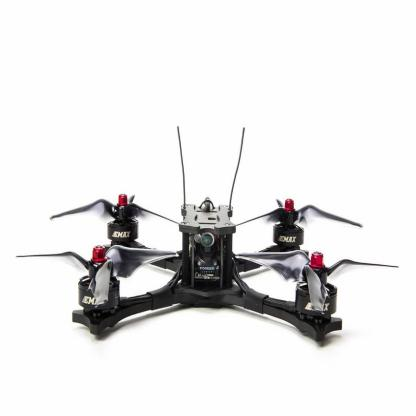drone: (22, 192, 401, 352)
